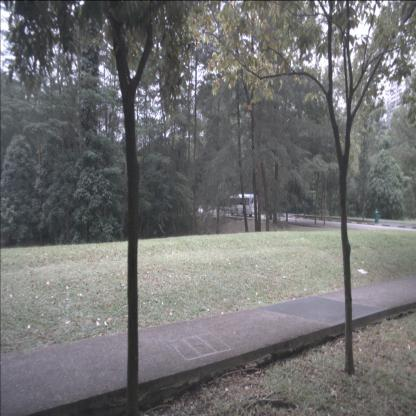vehicle-bus-rigid: (229, 194, 258, 217)
